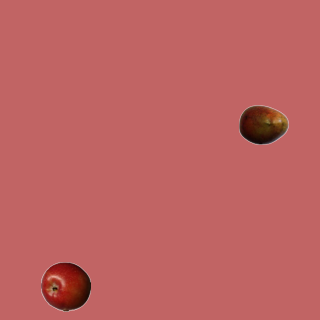Apple Braeburn: (40, 261, 90, 311)
Mango Red: (238, 99, 288, 149)
